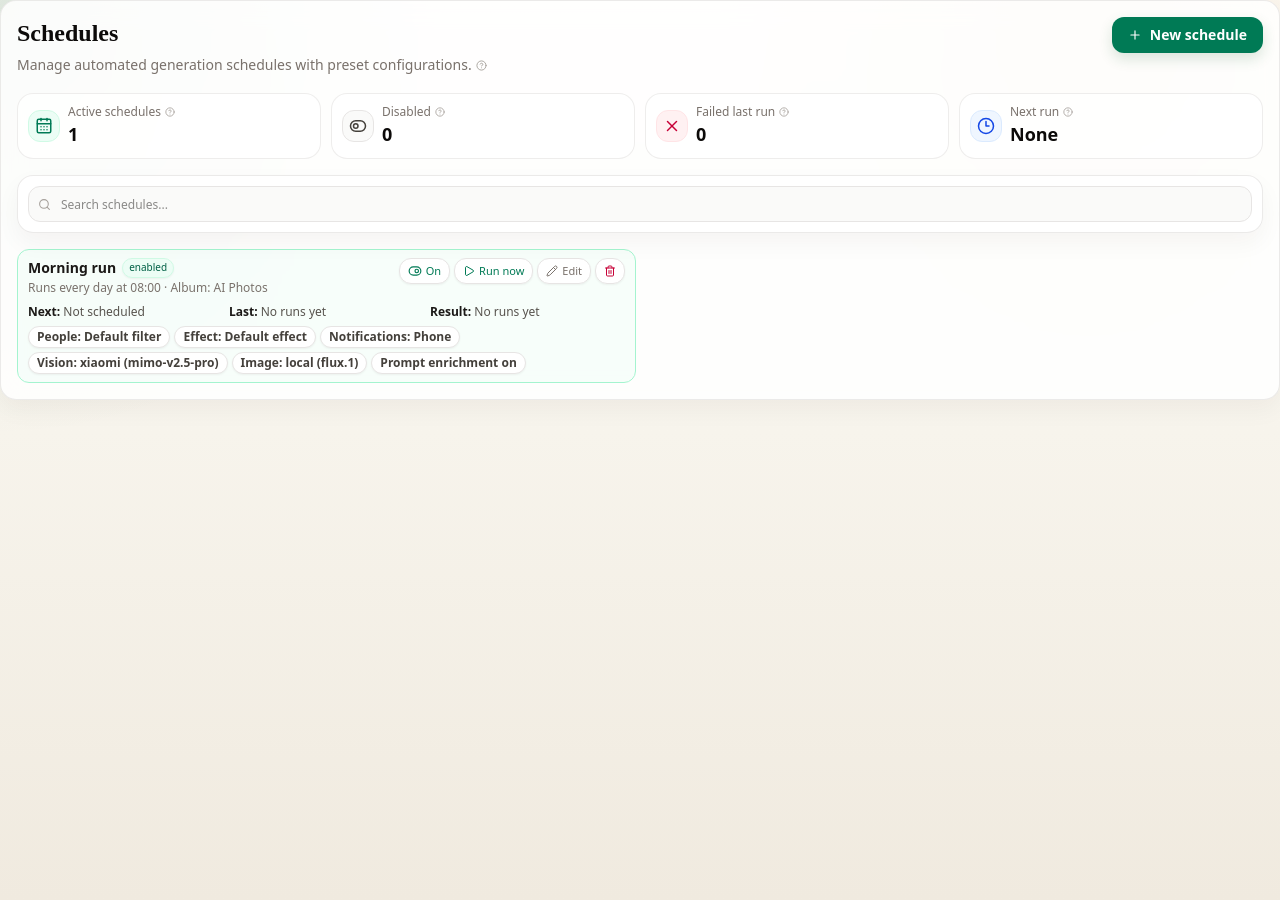
Test case: SchedulesPage › retains unsupported Xiaomi vision models and shows custom input when loading an edit form
Click the button "Edit". click: (564, 271)
box: [537,258,591,284]
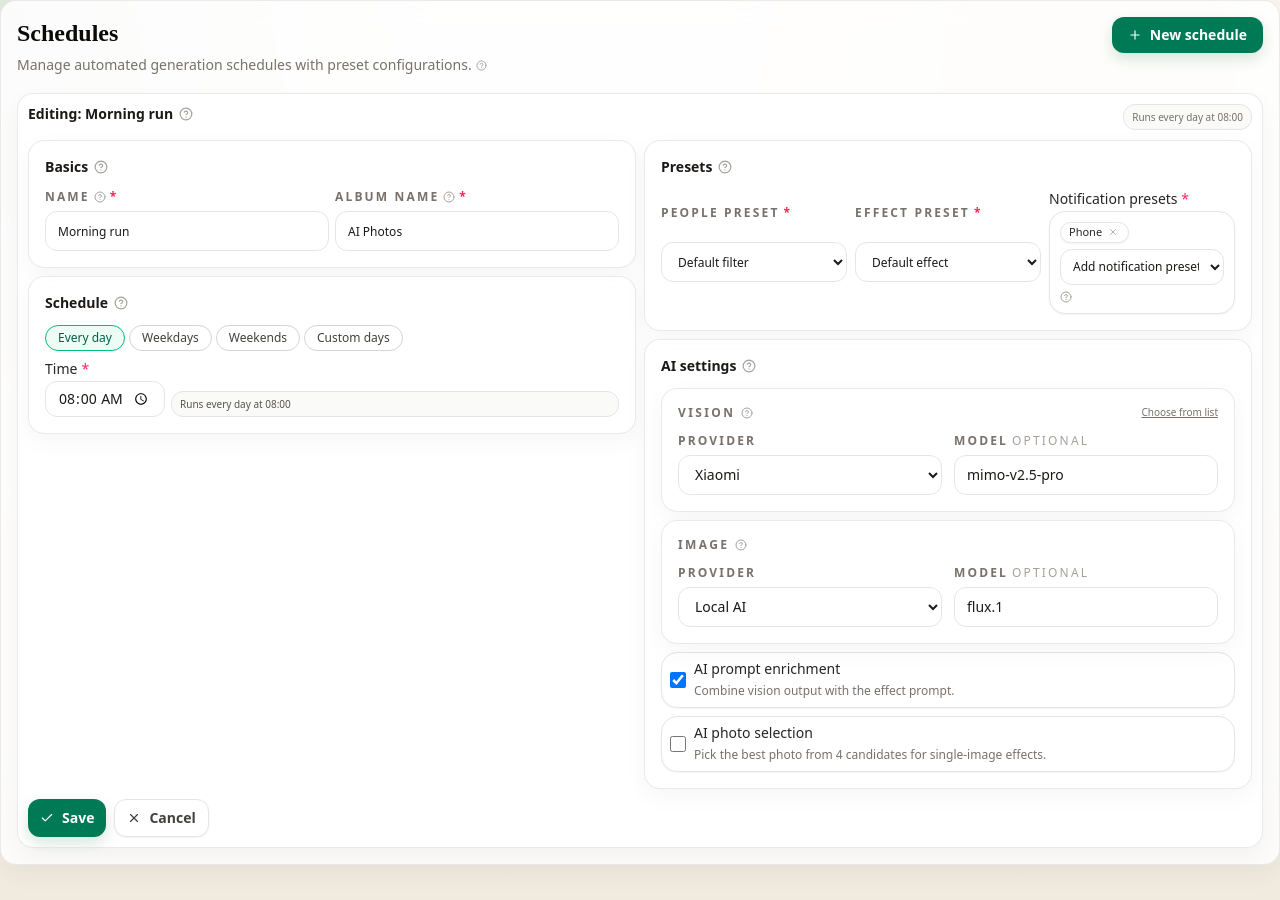
Expected: the 1st field showing "mimo-v2.5-pro" is shown, [954,455,1218,495]
